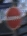No entry: (5, 5, 22, 31)
